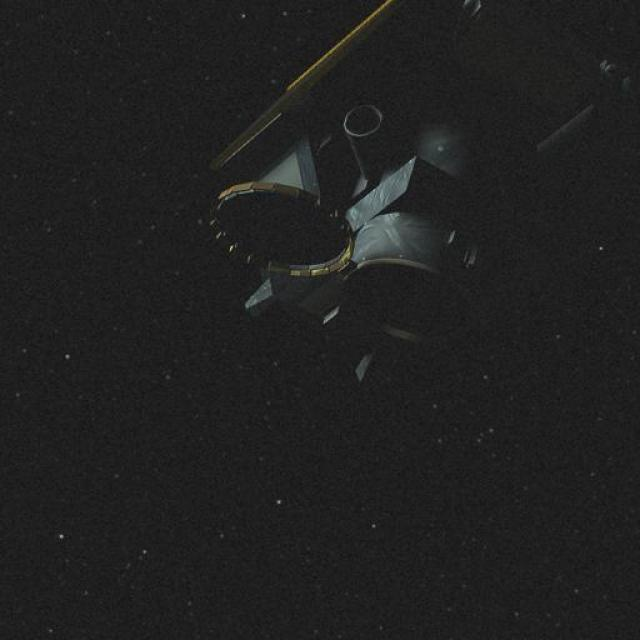cheops: (188, 10, 618, 407)
